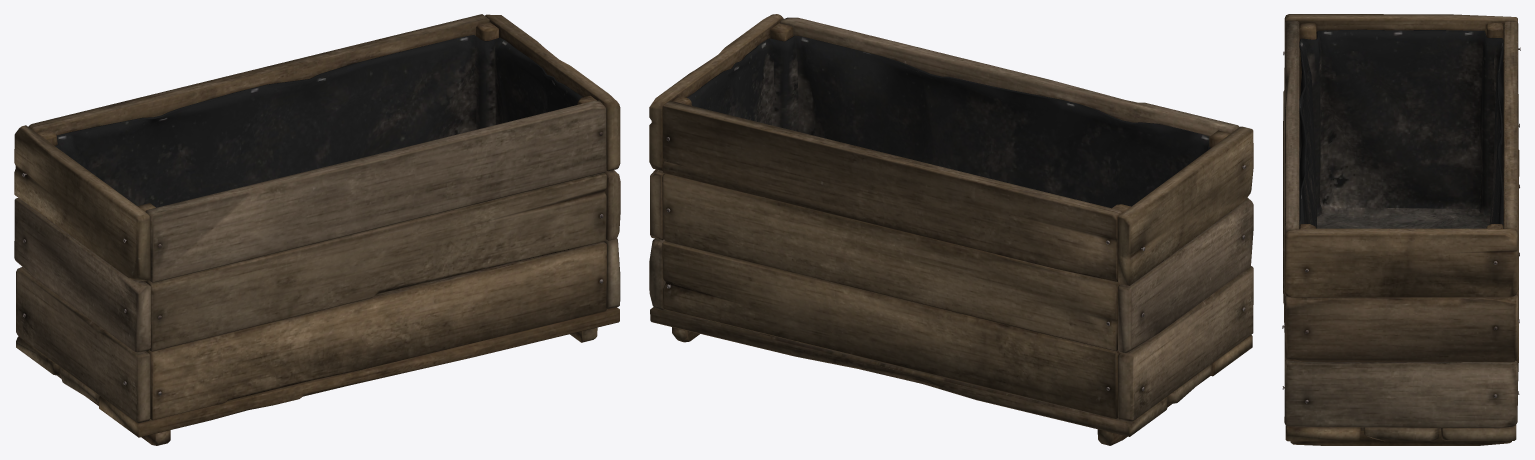
The model's file is planter_box_01_1k_LOD1.fbx.
3 views of the same model, side by side, from view 1: azimuth 30°, elevation 25°; view 2: azimuth 150°, elevation 25°; view 3: azimuth 270°, elevation 25° (orthographic). The views are drawn at different scales.
Parts seen in each view (by area): view 1: planter_box_01; view 2: planter_box_01; view 3: planter_box_01.
Boxes of the visible parts, x1,y1,x2,y2 form: planter_box_01: (14, 14, 620, 445); planter_box_01: (649, 14, 1253, 445); planter_box_01: (1282, 14, 1520, 445).
Size of the model in its own units: 91.26 by 42.5 by 41.37.
1 material, 1 textured.
